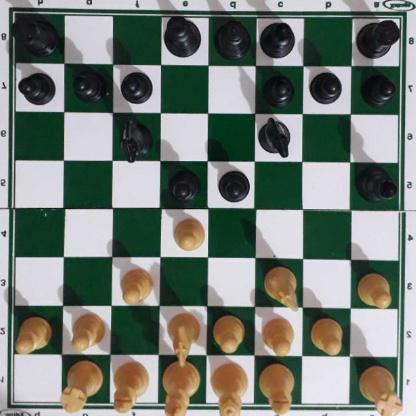black-bishop: (355, 166, 400, 202), (258, 20, 298, 56)
black-king: (162, 13, 203, 59)
black-knight: (120, 116, 153, 160), (260, 116, 292, 154)
black-pawn: (20, 69, 56, 105), (169, 166, 202, 202), (121, 67, 153, 102), (218, 166, 250, 201), (362, 72, 396, 104), (74, 67, 105, 102), (312, 70, 343, 104), (264, 71, 294, 105)
black-queen: (214, 20, 252, 59)
black-rook: (356, 16, 404, 58), (15, 10, 58, 55)
white-bishop: (259, 363, 296, 416), (114, 361, 151, 411)
white-king: (162, 358, 201, 416)
white-knight: (165, 311, 202, 367), (266, 263, 301, 308)
white-pawn: (16, 314, 53, 351), (120, 266, 154, 304), (358, 271, 394, 306), (214, 314, 247, 352), (263, 317, 296, 355), (313, 316, 346, 353), (174, 215, 206, 250)
white-queen: (212, 360, 250, 416)
white-rook: (361, 361, 401, 416), (63, 357, 101, 413)
